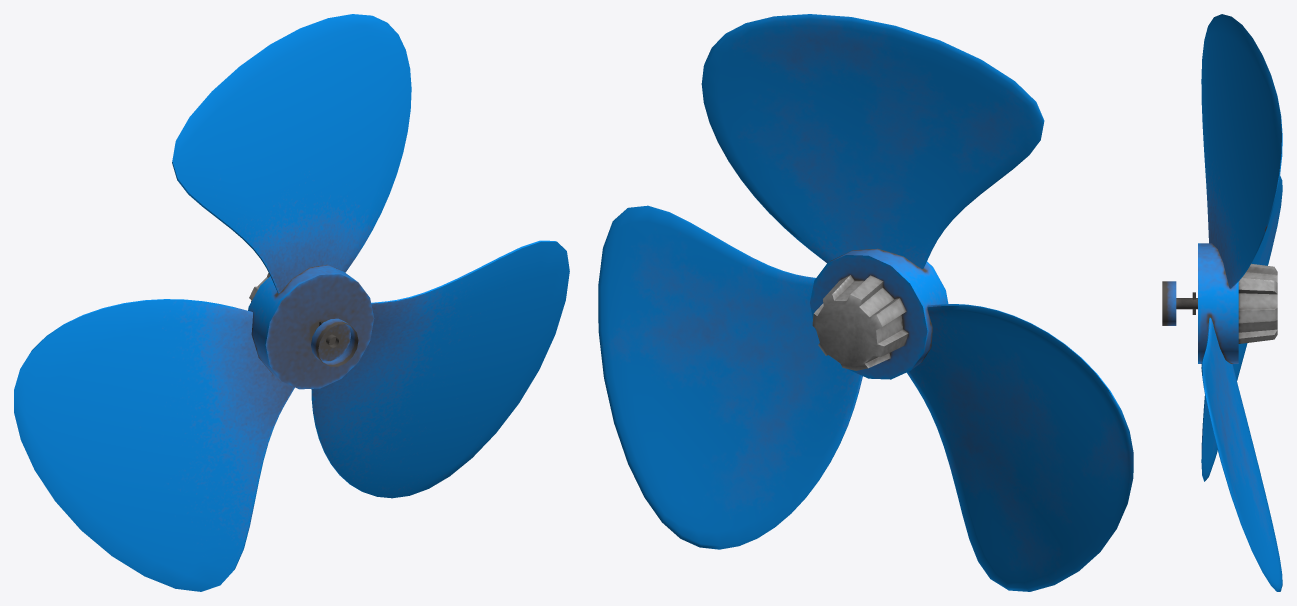
File: 4-blade.glb
3 views of the same model, side by side, from view 1: azimuth 30°, elevation 25°; view 2: azimuth 150°, elevation 25°; view 3: azimuth 270°, elevation 25° (orthographic). The views are drawn at different scales.
Parts seen in each view (by area): view 1: Fan; view 2: Fan; view 3: Fan.
Boxes of the visible parts, x1,y1,x2,y2 form: Fan: [14, 14, 569, 591]; Fan: [598, 14, 1133, 591]; Fan: [1162, 14, 1282, 591].
Size of the model in its own units: 5.14 by 4.85 by 1.07.
1 material, 1 textured.
